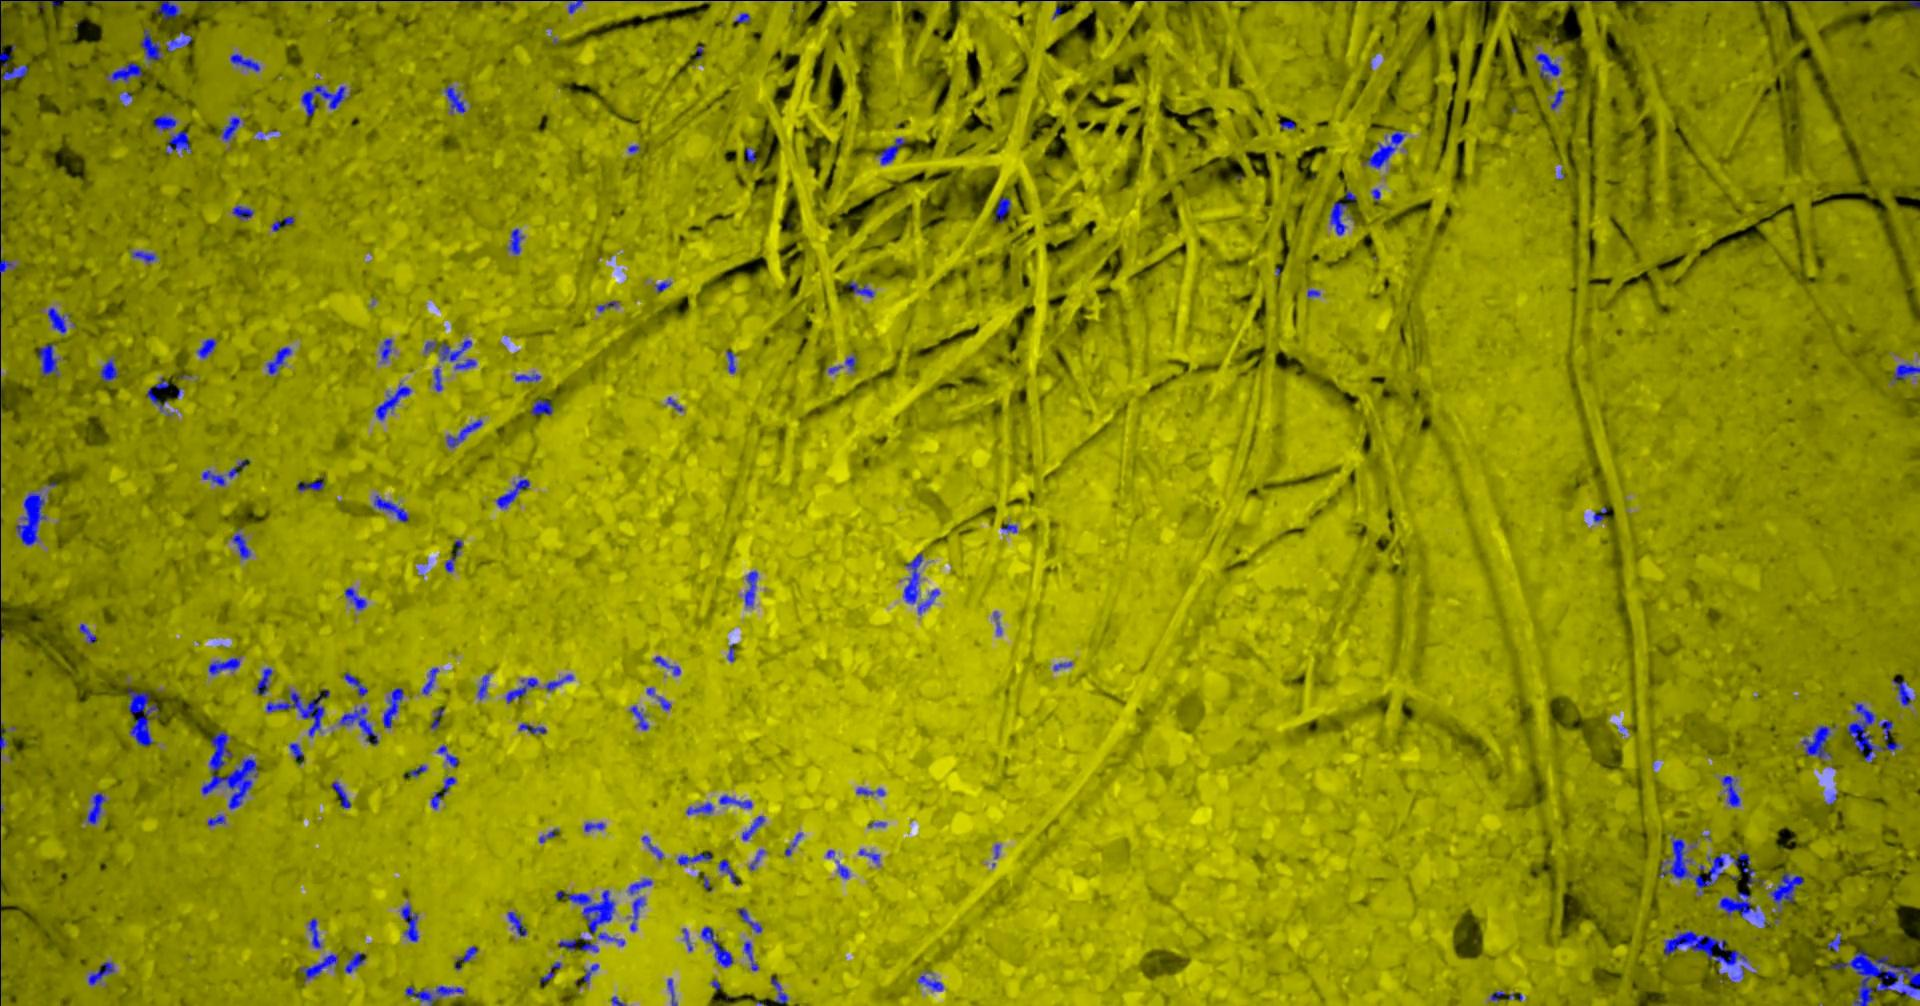ant: (1848, 702, 1901, 762), (267, 690, 326, 737), (557, 890, 616, 934), (130, 687, 161, 746), (1364, 130, 1407, 168), (17, 492, 47, 545), (425, 339, 477, 370), (340, 706, 380, 746), (1, 43, 29, 98), (1770, 871, 1804, 913), (302, 84, 347, 116), (377, 382, 413, 420), (702, 926, 734, 967), (1331, 188, 1357, 235), (1731, 851, 1765, 887), (1719, 890, 1760, 920), (408, 984, 465, 1005), (301, 953, 340, 981), (497, 478, 531, 508), (448, 419, 484, 447), (905, 553, 924, 603), (1803, 725, 1832, 758), (375, 495, 410, 521), (383, 687, 405, 728), (507, 677, 538, 702), (149, 376, 170, 412), (877, 137, 905, 164), (1537, 52, 1562, 81), (141, 27, 163, 61), (268, 345, 293, 373), (108, 62, 143, 81), (39, 342, 60, 375), (203, 467, 240, 485), (403, 904, 420, 941), (738, 907, 763, 932), (168, 130, 193, 154), (89, 962, 116, 984), (446, 539, 463, 572), (345, 672, 370, 696), (222, 116, 245, 141), (446, 85, 467, 112), (720, 859, 742, 885), (210, 657, 241, 674), (1723, 775, 1741, 807), (232, 528, 251, 558), (743, 815, 766, 840), (643, 835, 665, 859), (50, 307, 71, 333), (919, 588, 941, 614), (168, 30, 194, 51), (231, 53, 262, 71), (89, 793, 107, 823), (631, 897, 646, 931), (847, 279, 876, 297), (655, 655, 682, 674), (745, 570, 759, 606), (345, 587, 368, 608), (438, 744, 460, 767), (156, 0, 182, 19), (1893, 680, 1912, 705), (333, 781, 352, 807), (509, 911, 528, 936), (772, 976, 789, 1005), (257, 667, 274, 694), (679, 851, 712, 865), (631, 705, 650, 729), (1895, 363, 1920, 381), (345, 951, 367, 972), (102, 357, 119, 381), (547, 674, 575, 690), (996, 197, 1012, 222), (198, 338, 218, 358), (542, 962, 563, 982), (745, 941, 759, 970), (532, 398, 555, 415), (424, 667, 439, 694), (721, 795, 753, 808), (786, 833, 804, 855), (630, 878, 653, 894), (510, 227, 524, 254), (310, 918, 323, 948), (156, 113, 178, 130), (521, 721, 549, 734), (919, 976, 945, 989), (273, 216, 296, 231), (599, 932, 626, 945), (81, 622, 98, 643), (458, 945, 479, 962), (1552, 88, 1567, 109), (750, 848, 766, 870), (688, 801, 714, 814), (232, 205, 255, 218), (584, 963, 599, 983), (860, 848, 881, 862), (580, 936, 599, 951), (298, 480, 326, 490), (432, 708, 446, 728), (540, 828, 560, 842), (1829, 931, 1843, 951), (30, 0, 67, 8), (479, 674, 490, 699), (291, 742, 305, 760), (382, 338, 392, 362), (409, 763, 428, 776), (132, 251, 159, 260), (669, 978, 678, 1005), (1890, 0, 1920, 8), (598, 300, 618, 311), (1594, 506, 1609, 521), (444, 776, 457, 794), (838, 860, 851, 878), (857, 788, 886, 795), (436, 367, 444, 391), (1, 721, 9, 749), (569, 0, 585, 13), (1, 257, 14, 273), (728, 351, 737, 373), (516, 373, 542, 381), (210, 814, 226, 826), (560, 937, 577, 949), (432, 791, 442, 809), (585, 822, 606, 831), (847, 354, 858, 370), (737, 11, 752, 22), (1281, 119, 1297, 130), (747, 147, 757, 163)
